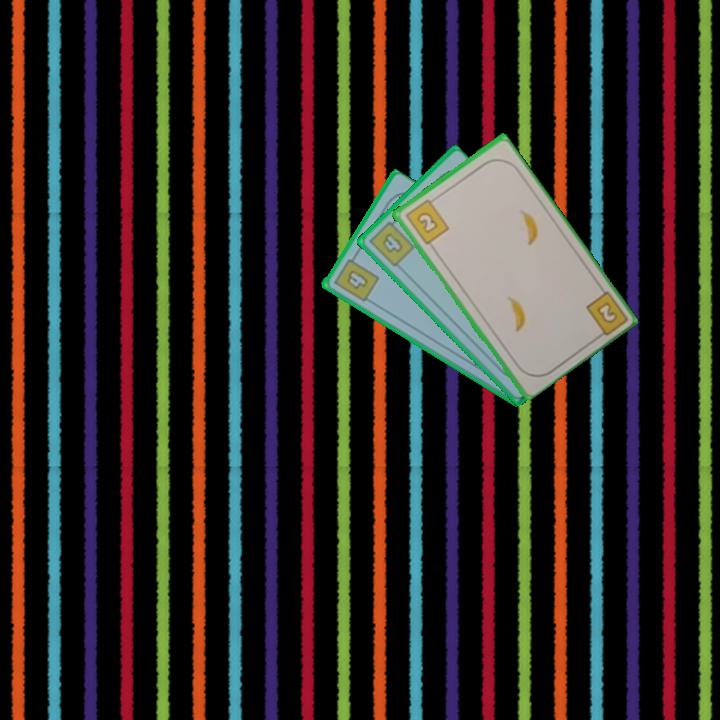2b: (401, 193, 451, 247), (582, 287, 628, 342)
4b: (329, 251, 381, 305), (366, 215, 417, 270)
